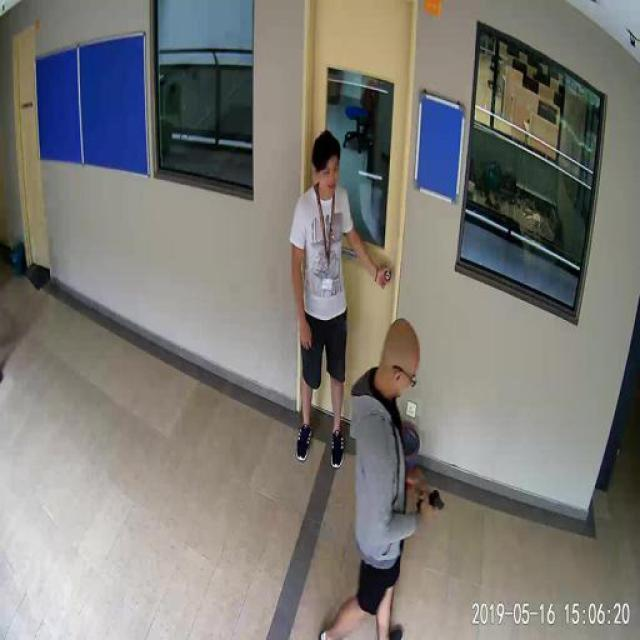weapon: (415, 483, 444, 518)
